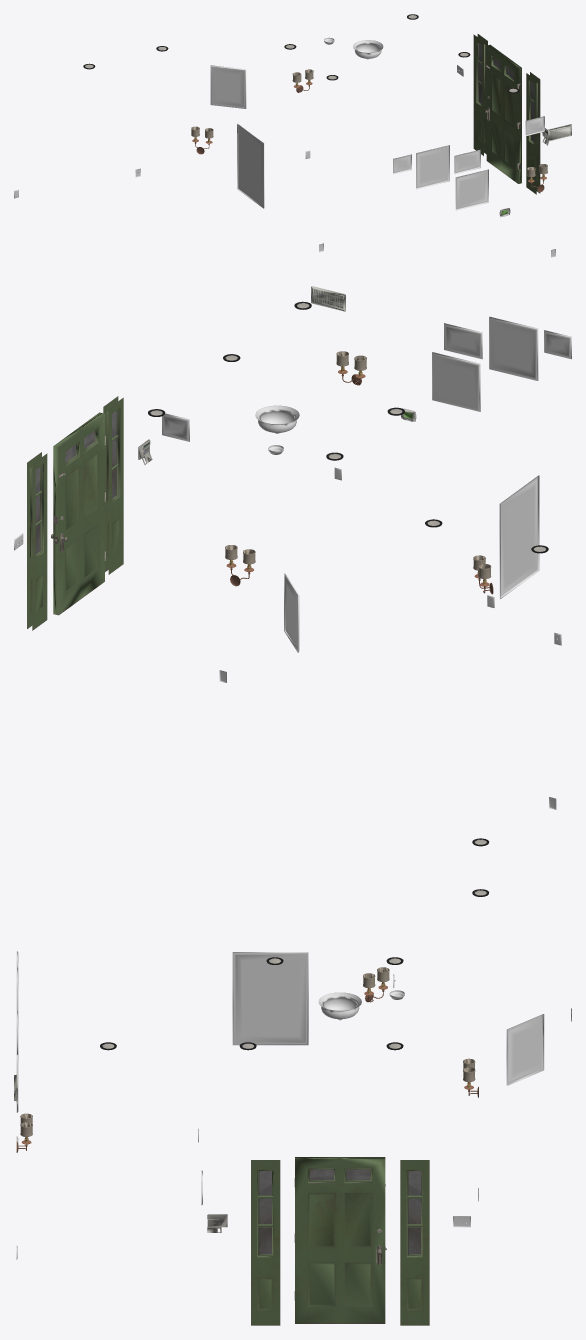
File: Hall.fbx
3 renders of one model, top to bottom at view 1: azimuth 30°, elevation 25°; view 2: azimuth 150°, elevation 25°; view 3: azimuth 270°, elevation 25°, orthographic. The views are drawn at different scales.
Parts seen in each view (by area): view 1: Hall-Shelf-Planks-Wood-Paint-White_0.2, Hall-Front-Door_0.002, Hall-Front-Windows_0.1, Hall-Ceiling-Light_0.1, Ac-Vents-Panels_0.003, Hall-Cell-Lamps_0.1; view 2: Hall-Shelf-Planks-Wood-Paint-White_0.2, Hall-Front-Door_0.002, Hall-Front-Windows_0.1, Ac-Vents-Panels_0.003, Hall-Ceiling-Light_0.1, Hall-Cell-Lamps_0.1; view 3: Hall-Front-Door_0.002, Hall-Front-Windows_0.1, Hall-Shelf-Planks-Wood-Paint-White_0.2, Hall-Ceiling-Light_0.1, Hall-Cell-Lamps_0.1.
Boxes of the visible parts, x1,y1,x2,y2 form: Hall-Shelf-Planks-Wood-Paint-White_0.2: (210,65,544,210); Hall-Front-Door_0.002: (485,44,521,183); Hall-Front-Windows_0.1: (473,34,540,194); Hall-Ceiling-Light_0.1: (353,40,383,59); Ac-Vents-Panels_0.003: (499,124,571,217); Hall-Cell-Lamps_0.1: (83,14,519,93); Hall-Shelf-Planks-Wood-Paint-White_0.2: (162,316,571,652); Hall-Front-Door_0.002: (51,412,104,615); Hall-Front-Windows_0.1: (27,396,123,630); Ac-Vents-Panels_0.003: (138,286,416,465); Hall-Ceiling-Light_0.1: (255,405,299,433); Hall-Cell-Lamps_0.1: (148,301,548,553); Hall-Front-Door_0.002: (295,1157,386,1323); Hall-Front-Windows_0.1: (251,1160,429,1325); Hall-Shelf-Planks-Wood-Paint-White_0.2: (16,951,544,1205); Hall-Ceiling-Light_0.1: (318,992,361,1020); Hall-Cell-Lamps_0.1: (100,838,488,1050).
Bounding box in the file's own units: 8.9 × 7.29 × 3.26.
